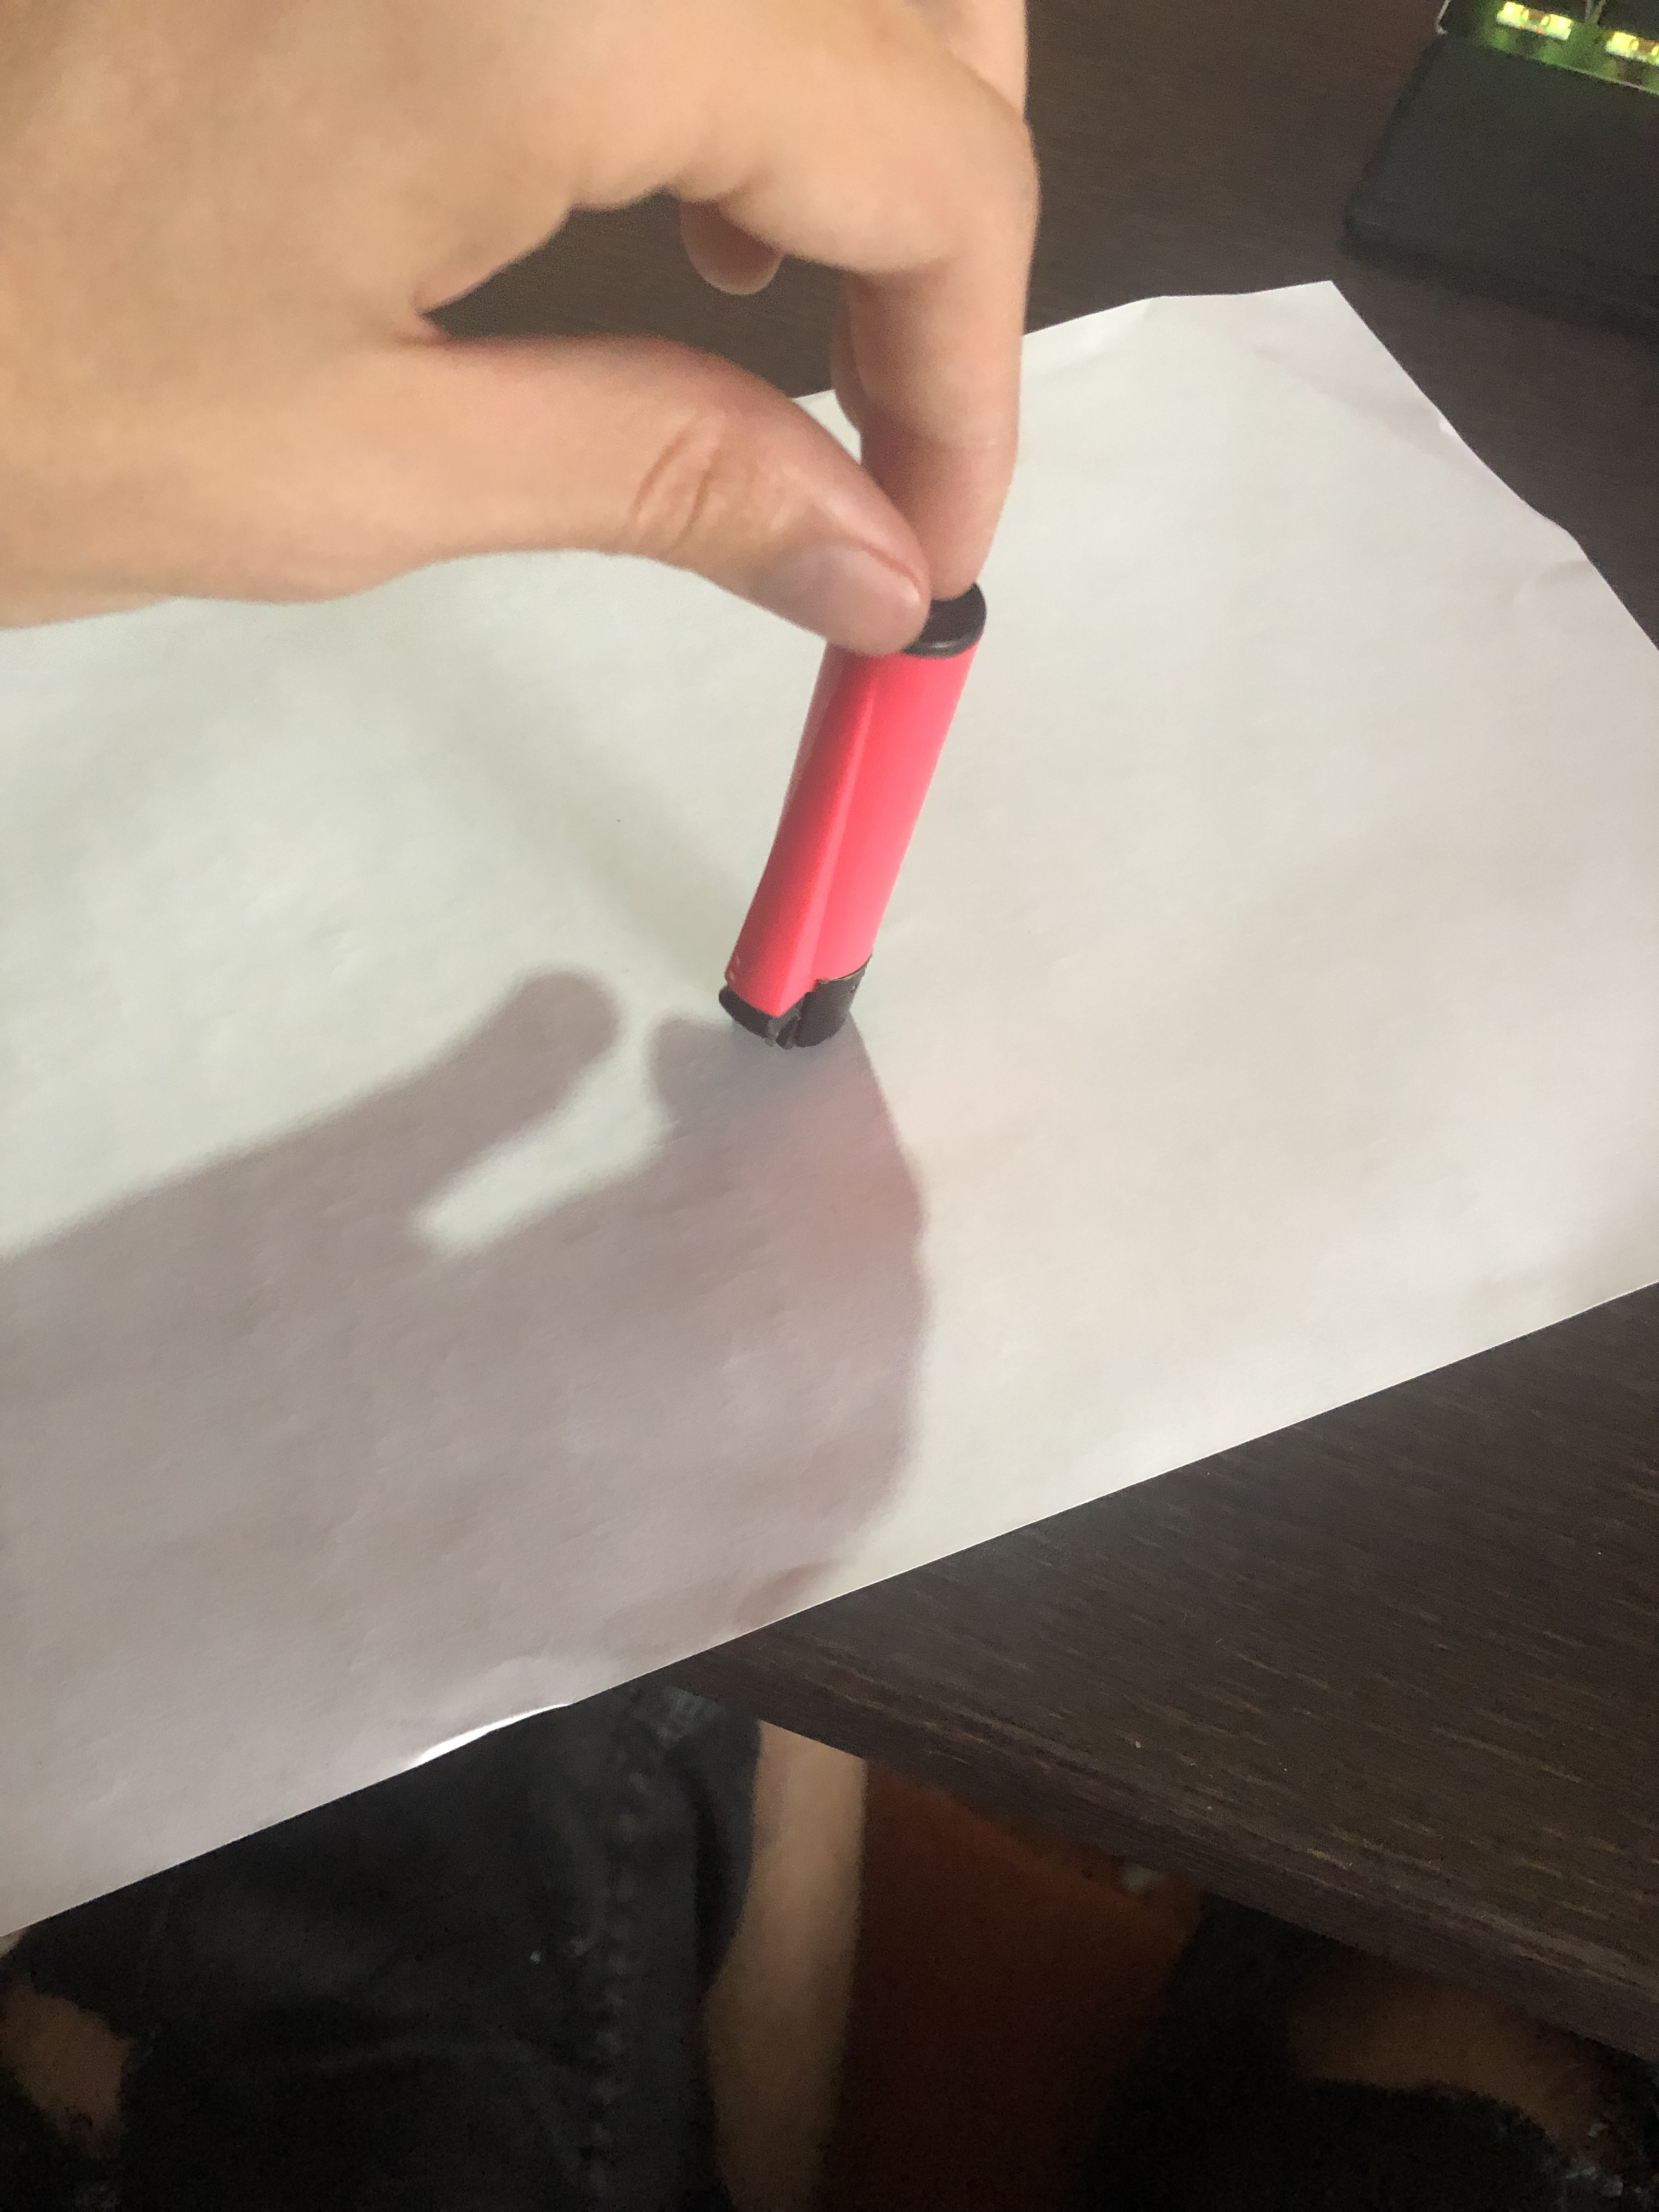Mechero: (708, 575, 1011, 1066)
